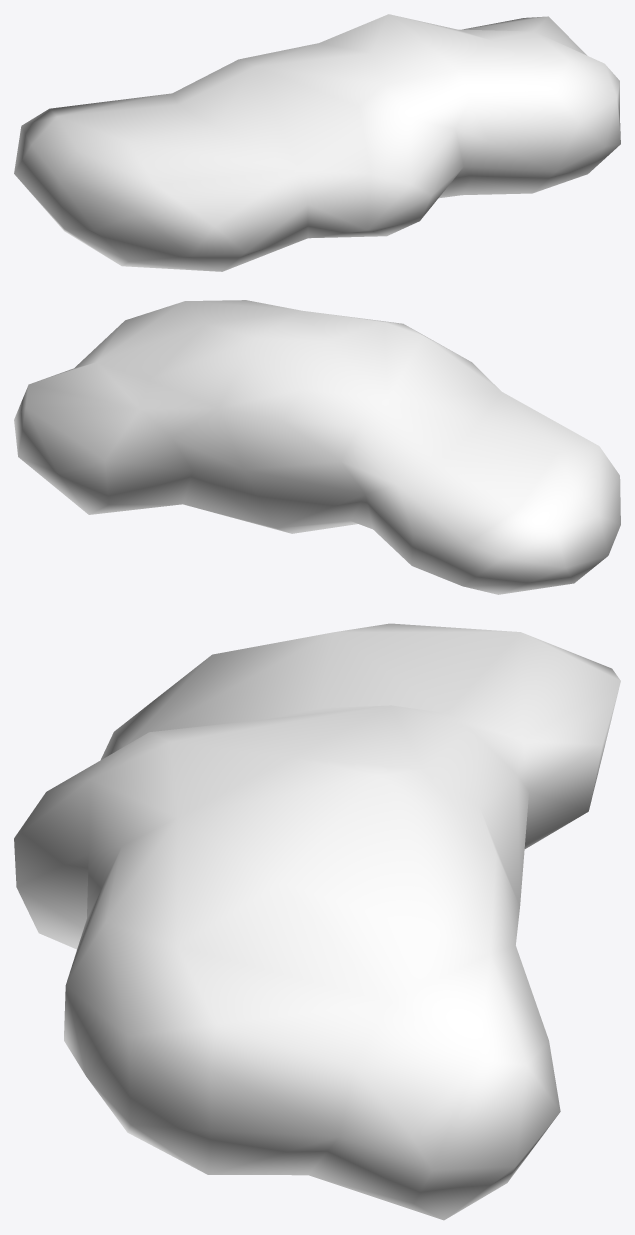
File: Cloud.fbx
The picture shows the model from 3 angles, top to bottom: view 1: azimuth 30°, elevation 25°; view 2: azimuth 150°, elevation 25°; view 3: azimuth 270°, elevation 25°; orthographic projection. The views are drawn at different scales.
Visible parts, largest first — view 1: Cloud; view 2: Cloud; view 3: Cloud.
Part boxes in pixels (x1,y1,x2,y2): Cloud: (14,14,620,271); Cloud: (14,300,620,594); Cloud: (14,623,620,1220).
Size of the model in its own units: 364 by 111 by 197.
